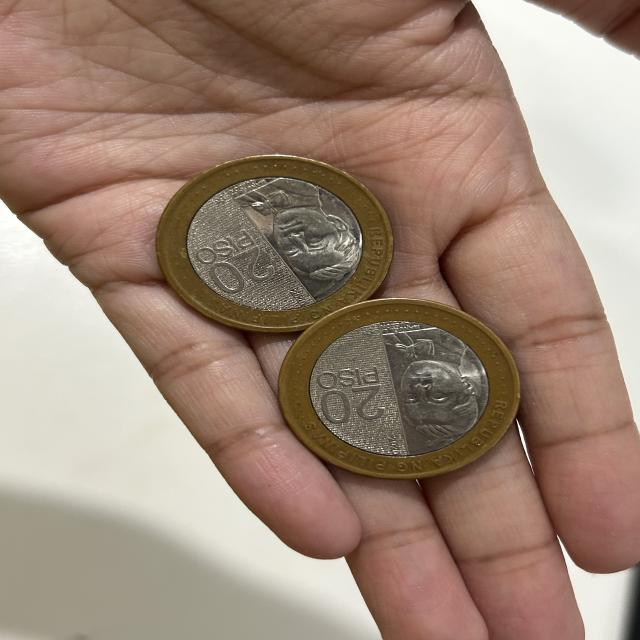20_New_Front: (304, 356, 394, 441), (187, 230, 286, 304)
